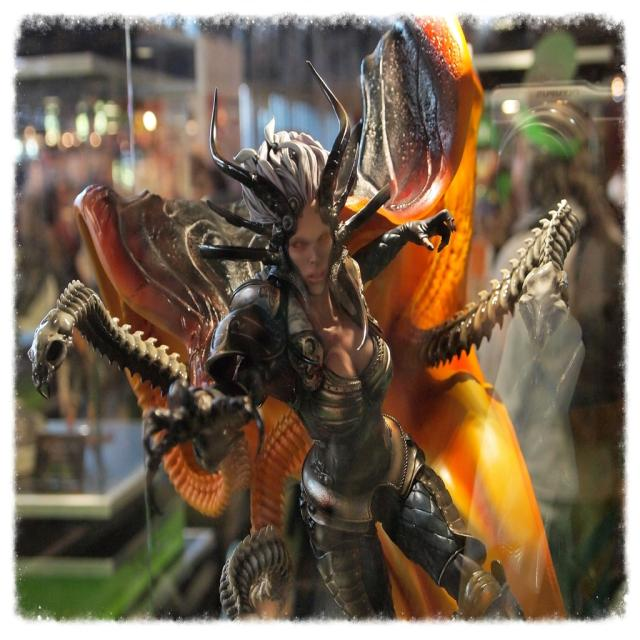Toy: (27, 16, 581, 620)
